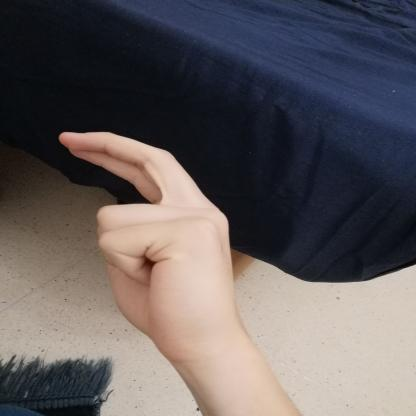ZAY: (47, 122, 248, 365)
